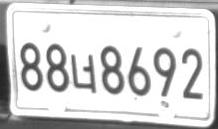2: (181, 47, 204, 99)
6: (127, 47, 151, 96)
8: (99, 44, 125, 95), (45, 42, 70, 92), (19, 41, 43, 91)
9: (152, 46, 177, 97)
너: (70, 53, 96, 93)
